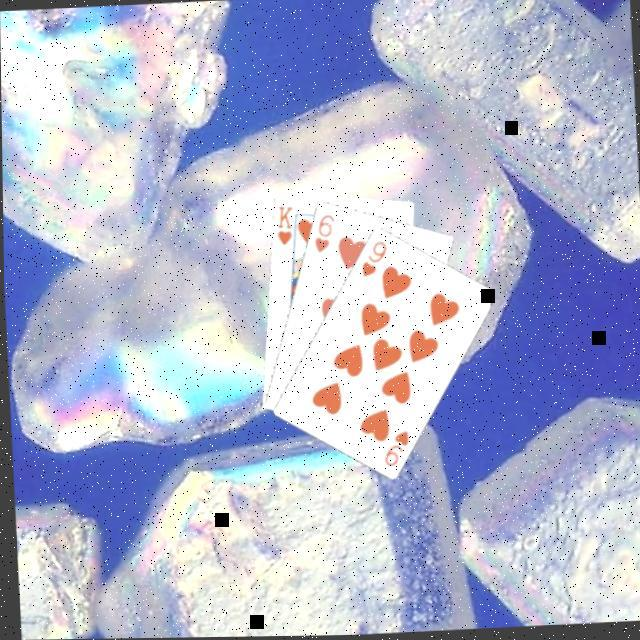6H: (306, 214, 337, 258)
9H: (353, 240, 388, 282), (376, 429, 410, 472)
KH: (268, 206, 294, 250)
